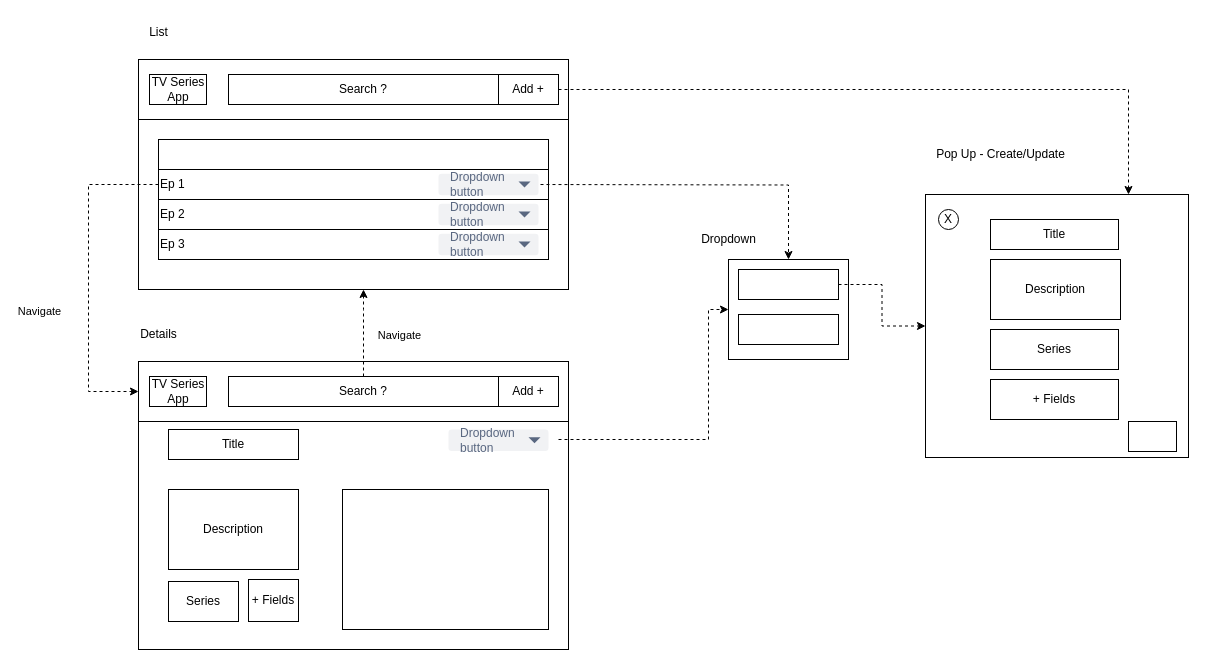
Some shapes in this 1206 by 667 pixel diagram are drawn without their labels. Here are the shapes that lost their labels. From the top down, the centre of each, then its label:
At pixel 353 154: "Episodes".
At pixel 788 284: "Edit".
At pixel 788 329: "Delete".
At pixel 1152 436: "Save".
At pixel 445 559: "Image".
